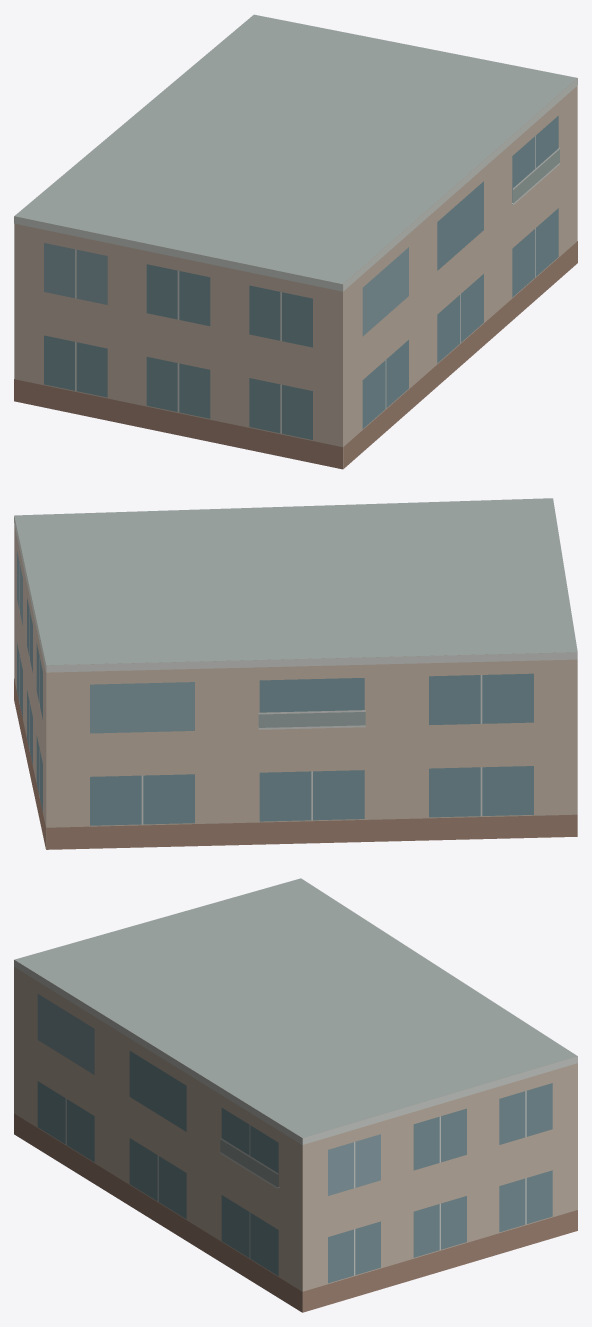
File: survey-upis-32850245.glb
3 renders of one model, top to bottom at view 1: azimuth 30°, elevation 25°; view 2: azimuth 150°, elevation 25°; view 3: azimuth 270°, elevation 25°, orthographic. The views are drawn at different scales.
Visible parts, largest first — view 1: survey-upis-32850245.tmp; view 2: survey-upis-32850245.tmp; view 3: survey-upis-32850245.tmp.
Boxes of the visible parts, x1,y1,x2,y2 form: survey-upis-32850245.tmp: [14, 14, 577, 469]; survey-upis-32850245.tmp: [14, 498, 577, 849]; survey-upis-32850245.tmp: [14, 878, 577, 1312].
Bounding box in the file's own units: 19.48 × 6.1 × 17.86.
